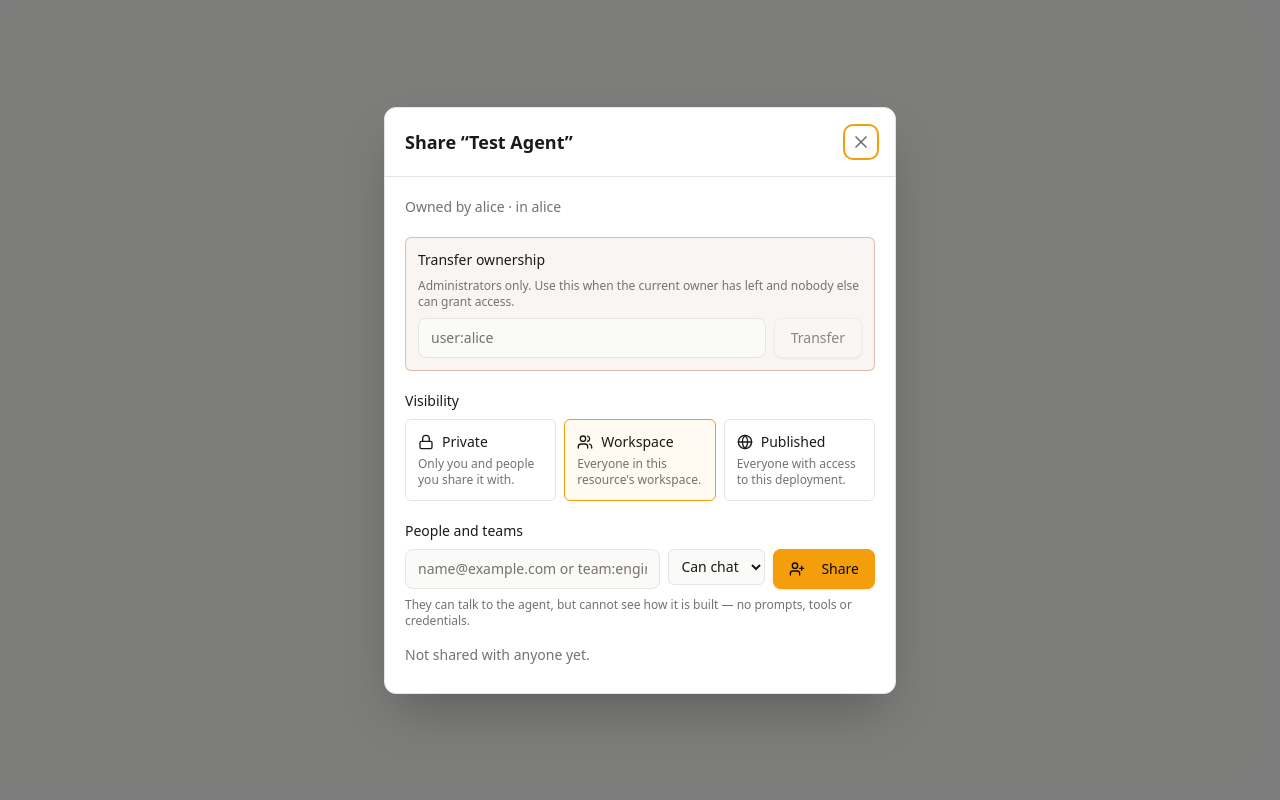
Test: ShareDialog — transfer ownership › withdraws the confirmation when the name is changed
Type "user:bob" into the field with test id "transfer-subject-input".
click(592, 338); type("user:bob")  # box x1=418 y1=318 x2=766 y2=358
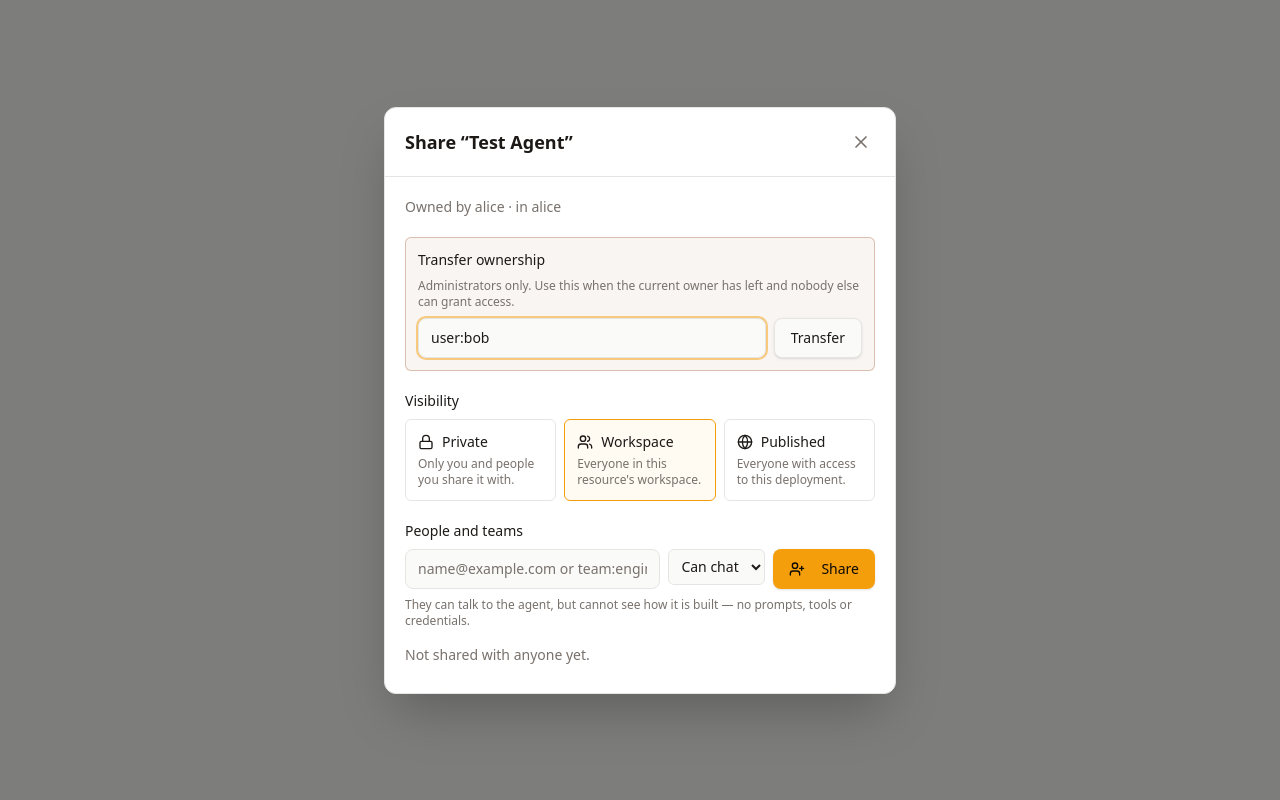
Click the button with test id "transfer-submit".
click(818, 338)  # box x1=774 y1=318 x2=862 y2=358
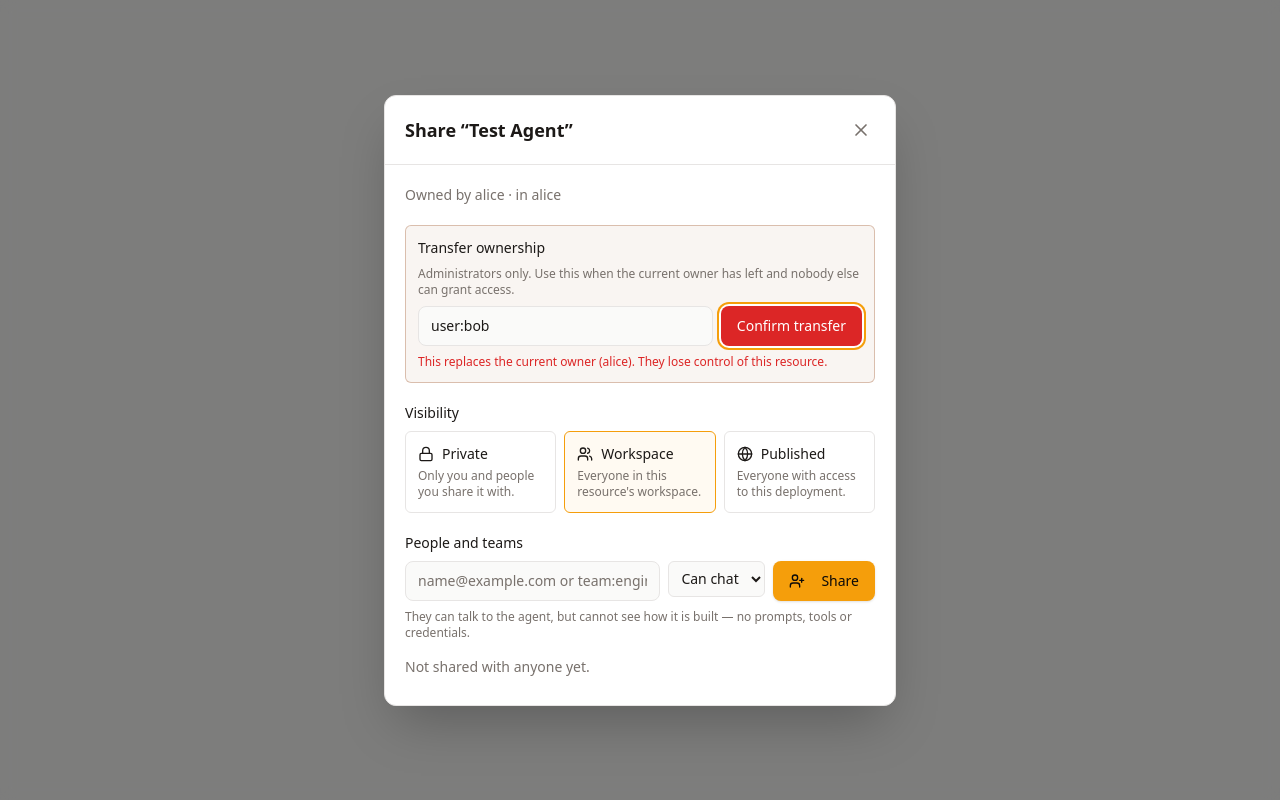
Expected: the message "This replaces the current owner (alice). They lose control of this resource." is shown, x1=418 y1=354 x2=862 y2=370
Type "x" into the field with test id "transfer-subject-input".
click(565, 326); type("x")  # box x1=418 y1=306 x2=713 y2=346
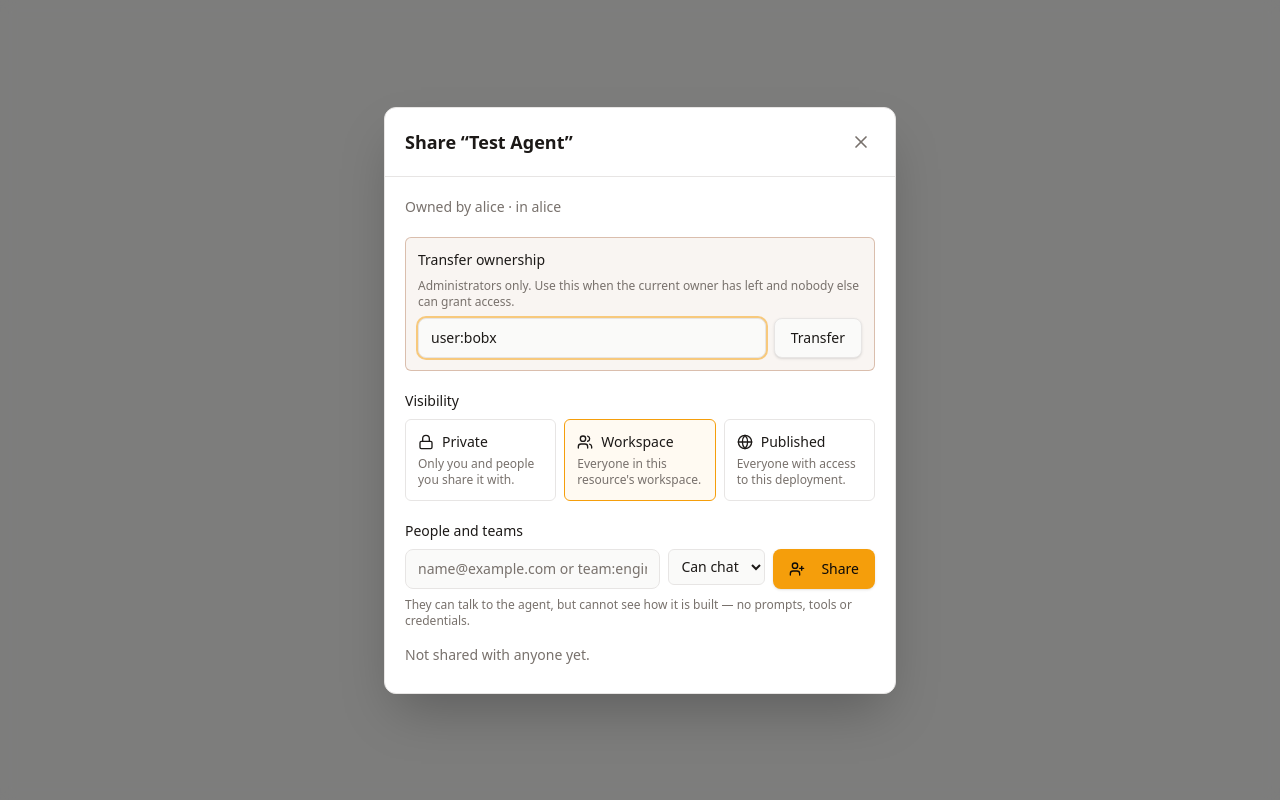
Expected: the message with test id "transfer-warning" is gone
